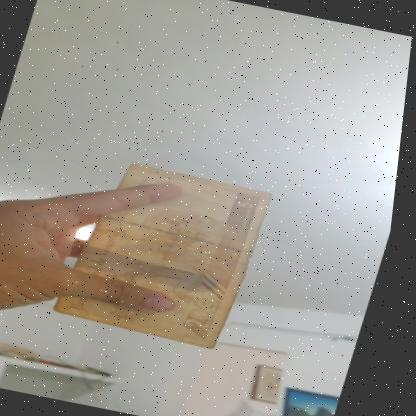five-back-vef: (54, 154, 281, 352)
